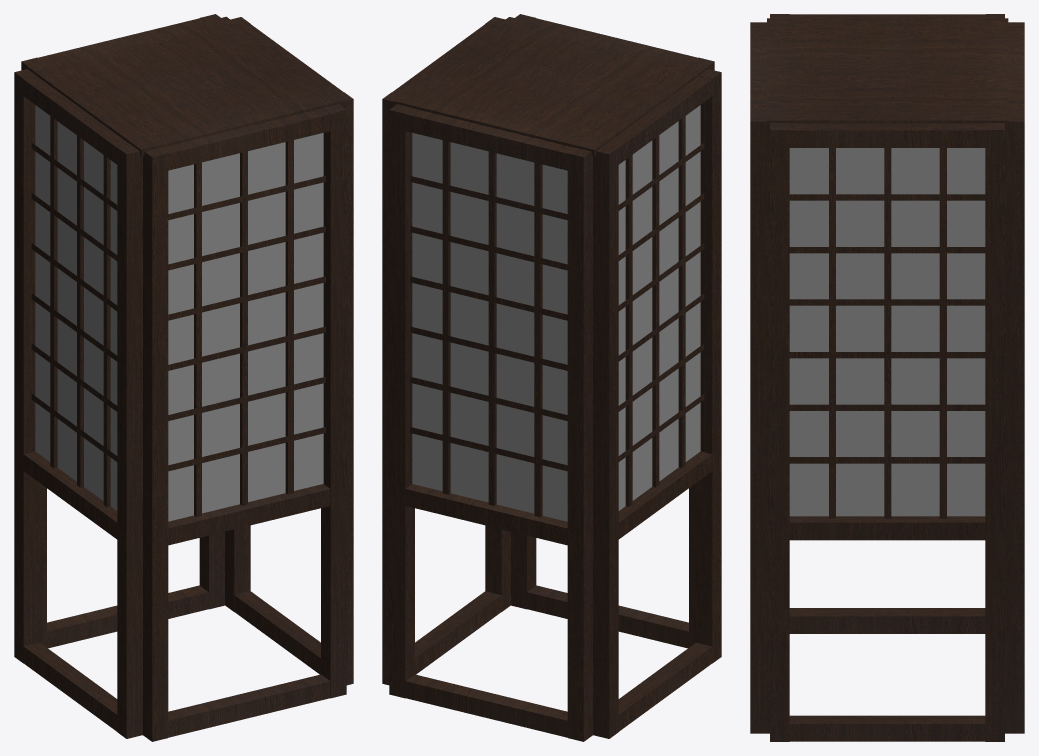
The model's file is Japanese lamp.FBX.
3 renders of one model, left to right at view 1: azimuth 30°, elevation 25°; view 2: azimuth 150°, elevation 25°; view 3: azimuth 270°, elevation 25°, orthographic. The views are drawn at different scales.
Visible parts, largest first — view 1: japanese lamp; view 2: japanese lamp; view 3: japanese lamp.
Part boxes in pixels (left/top/right/bottom): japanese lamp: left=14, top=14, right=353, bottom=741; japanese lamp: left=382, top=14, right=721, bottom=741; japanese lamp: left=750, top=14, right=1024, bottom=741.
Bounding box in the file's own units: 34.18 × 84.48 × 34.15.
2 materials, 1 textured.
